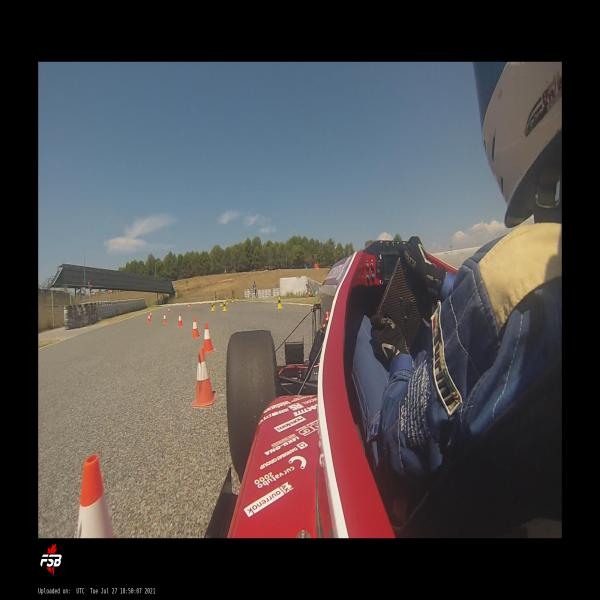orange_cone: (76, 453, 115, 538), (190, 348, 217, 406), (204, 322, 215, 352), (192, 317, 200, 338), (178, 313, 182, 327), (163, 312, 167, 324), (148, 314, 152, 323), (150, 311, 152, 318), (168, 307, 170, 313), (188, 303, 190, 309)
yellow_cone: (276, 295, 282, 308), (210, 302, 215, 311), (223, 301, 227, 311), (231, 297, 234, 303), (226, 297, 228, 305), (213, 301, 215, 308), (220, 301, 222, 307), (236, 296, 238, 301)
